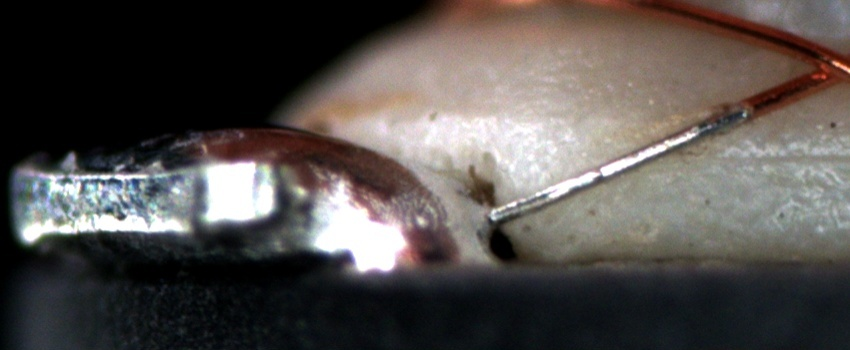CL: (792, 39, 849, 91)
DL: (678, 126, 850, 190), (414, 97, 591, 142)
TS: (490, 106, 750, 219)
